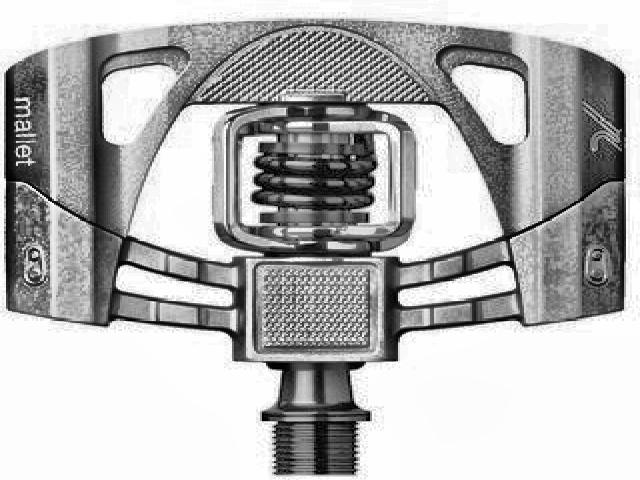pedal: (6, 21, 630, 477)
